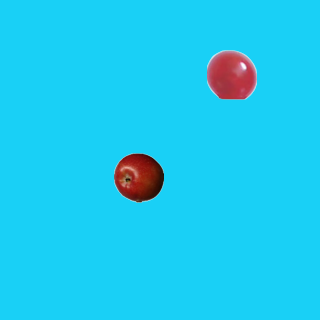Apple Braeburn: (113, 152, 163, 202)
Redcurrant: (206, 49, 256, 99)
